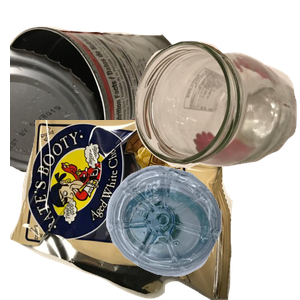glass: (132, 38, 300, 199)
metal: (10, 23, 193, 194)
plastic: (104, 163, 300, 300)
trash: (10, 120, 235, 300)
